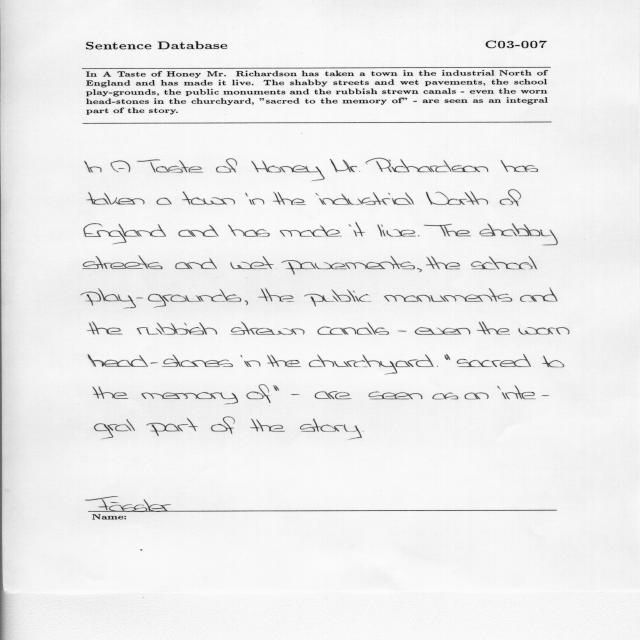word: (81, 289, 241, 309), (282, 256, 415, 275), (309, 355, 434, 375), (88, 354, 233, 367), (384, 288, 512, 302), (366, 158, 489, 172), (84, 223, 166, 244), (480, 224, 558, 246), (251, 161, 325, 181), (300, 419, 362, 440), (316, 192, 414, 205), (142, 392, 239, 404), (305, 290, 372, 307), (83, 256, 163, 269), (137, 322, 217, 335), (231, 322, 305, 335), (457, 354, 531, 367), (137, 159, 204, 173), (317, 322, 389, 335), (146, 418, 198, 436), (426, 191, 488, 205), (471, 256, 537, 269), (94, 419, 135, 439), (280, 225, 342, 237), (497, 386, 549, 400), (87, 192, 145, 204), (182, 192, 235, 205), (230, 256, 274, 269), (424, 224, 471, 236), (520, 287, 557, 302), (377, 224, 416, 237), (228, 225, 270, 237), (258, 288, 294, 302), (179, 225, 219, 237), (87, 322, 123, 335), (175, 258, 217, 269), (93, 386, 128, 399), (250, 419, 285, 432), (246, 385, 271, 403), (415, 327, 471, 335), (501, 160, 538, 172), (426, 256, 460, 269), (369, 392, 423, 400), (273, 192, 306, 205), (477, 322, 510, 335), (519, 327, 570, 335), (267, 355, 301, 367), (211, 417, 235, 434), (330, 159, 360, 172), (500, 190, 521, 207), (216, 158, 237, 173), (315, 391, 352, 399), (542, 356, 564, 368), (349, 222, 366, 237), (111, 161, 131, 173), (241, 355, 261, 367), (246, 193, 265, 205), (85, 161, 102, 173), (432, 393, 458, 400), (464, 393, 489, 400), (157, 198, 172, 205), (444, 354, 450, 360), (273, 385, 279, 391), (417, 268, 422, 272), (245, 301, 248, 306), (398, 331, 407, 332), (291, 394, 300, 395), (418, 236, 419, 237), (437, 366, 438, 367), (363, 431, 364, 432)
